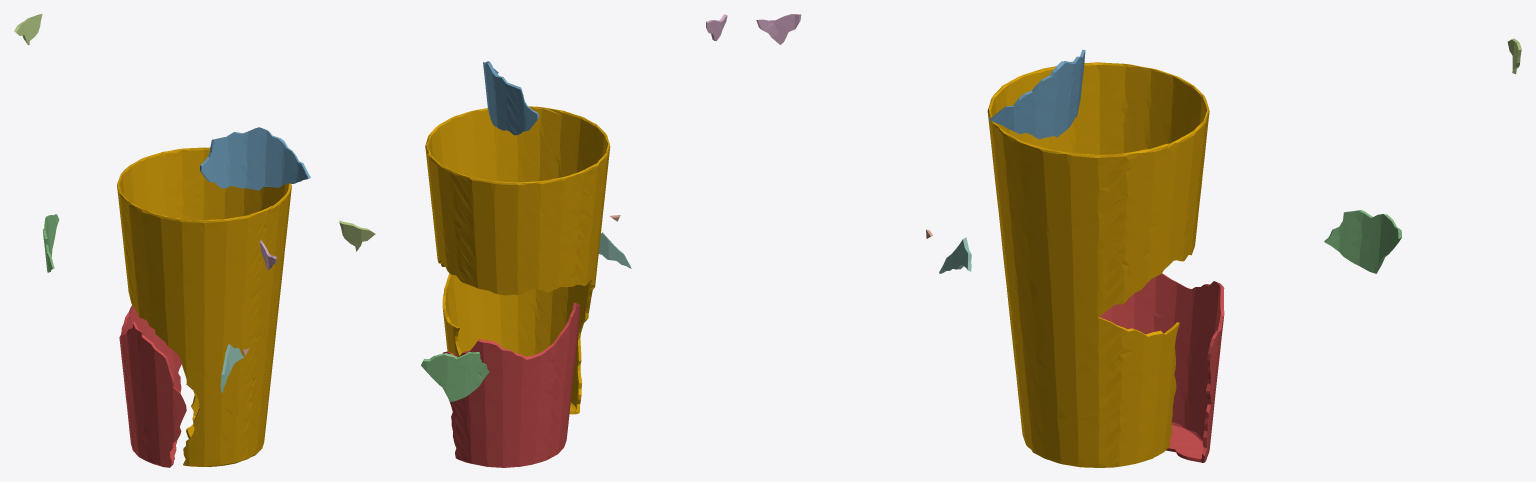
Rendered from fractured_56_8pcs_transformed.glb.
3 renders of one model, left to right at view 1: azimuth 30°, elevation 25°; view 2: azimuth 150°, elevation 25°; view 3: azimuth 270°, elevation 25°, orthographic. The views are drawn at different scales.
Visible parts, largest first — view 1: piece_0.obj, piece_1.obj, piece_2.obj, piece_3.obj, piece_5.obj, piece_4.obj; view 2: piece_0.obj, piece_1.obj, piece_2.obj, piece_3.obj, piece_5.obj, piece_4.obj; view 3: piece_0.obj, piece_1.obj, piece_2.obj, piece_3.obj.
Part boxes in pixels (x1,y1,x2,y2): piece_0.obj: (117,147,291,466); piece_1.obj: (119,305,186,467); piece_2.obj: (200,127,310,190); piece_3.obj: (43,214,59,272); piece_5.obj: (14,14,42,44); piece_4.obj: (220,344,243,392); piece_0.obj: (425,106,610,414); piece_1.obj: (443,302,580,467); piece_2.obj: (483,61,539,135); piece_3.obj: (421,352,489,401); piece_5.obj: (339,220,375,251); piece_4.obj: (598,232,631,268); piece_0.obj: (987,62,1209,467); piece_1.obj: (1099,273,1224,462); piece_2.obj: (989,49,1085,139); piece_3.obj: (1324,210,1401,273).
Size of the model in its own units: 0.6116 by 1.27 by 2.11.
